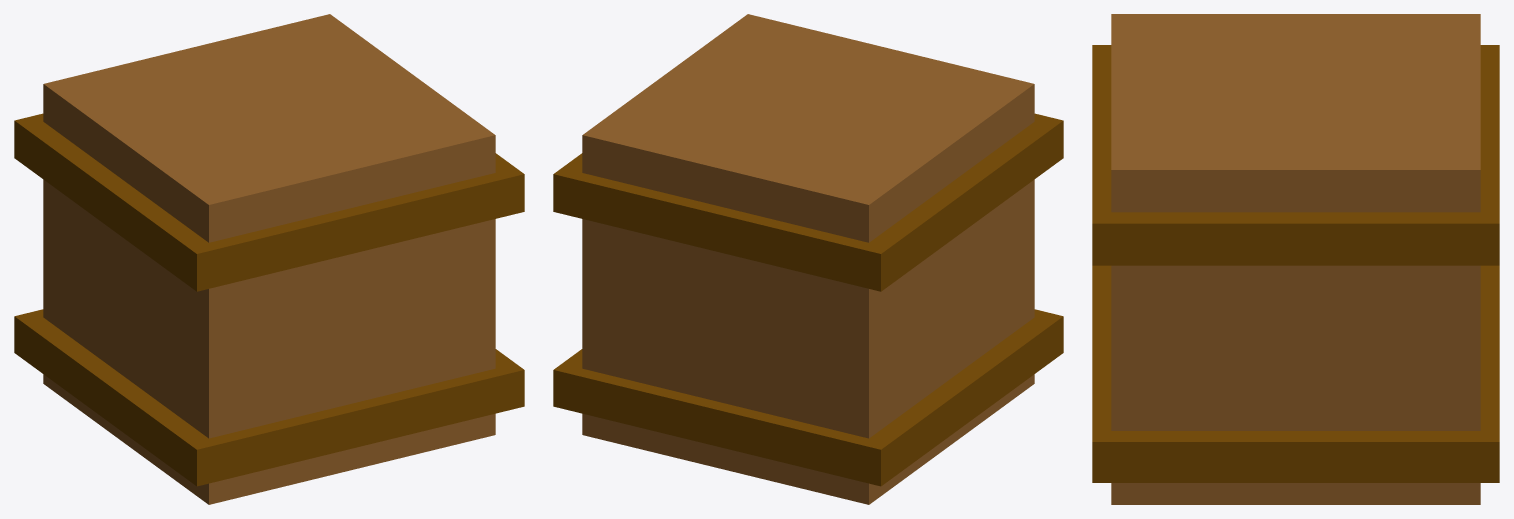
Rendered from Caja2.fbx.
The picture shows the model from 3 angles, left to right: view 1: azimuth 30°, elevation 25°; view 2: azimuth 150°, elevation 25°; view 3: azimuth 270°, elevation 25°; orthographic projection. The views are drawn at different scales.
Visible parts, largest first — view 1: pCube2; view 2: pCube2; view 3: pCube2.
Part boxes in pixels (box(x1,y1,x2,y2)): pCube2: box(14, 14, 524, 504); pCube2: box(553, 14, 1063, 504); pCube2: box(1092, 14, 1499, 504).
Bounding box in the file's own units: 9.73 × 8.51 × 9.39.
